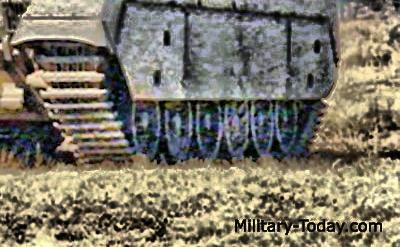tanks: (1, 1, 339, 164)
